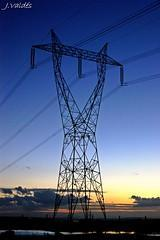power_tower: (26, 30, 126, 225)
